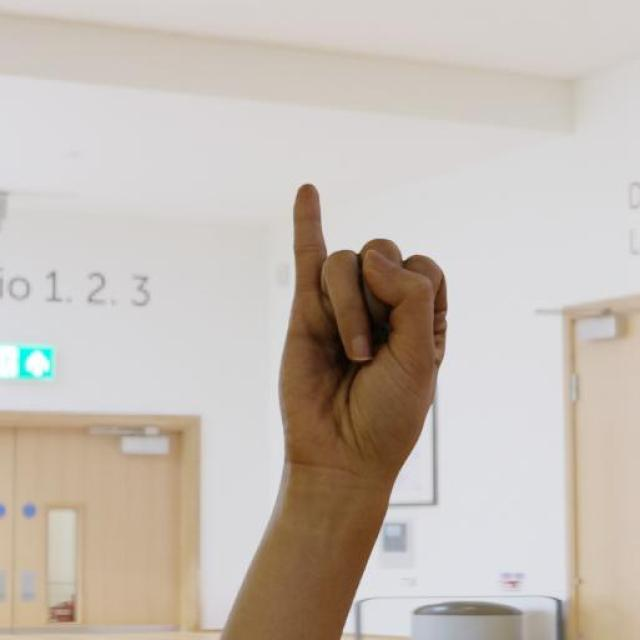I: (274, 180, 451, 486)
